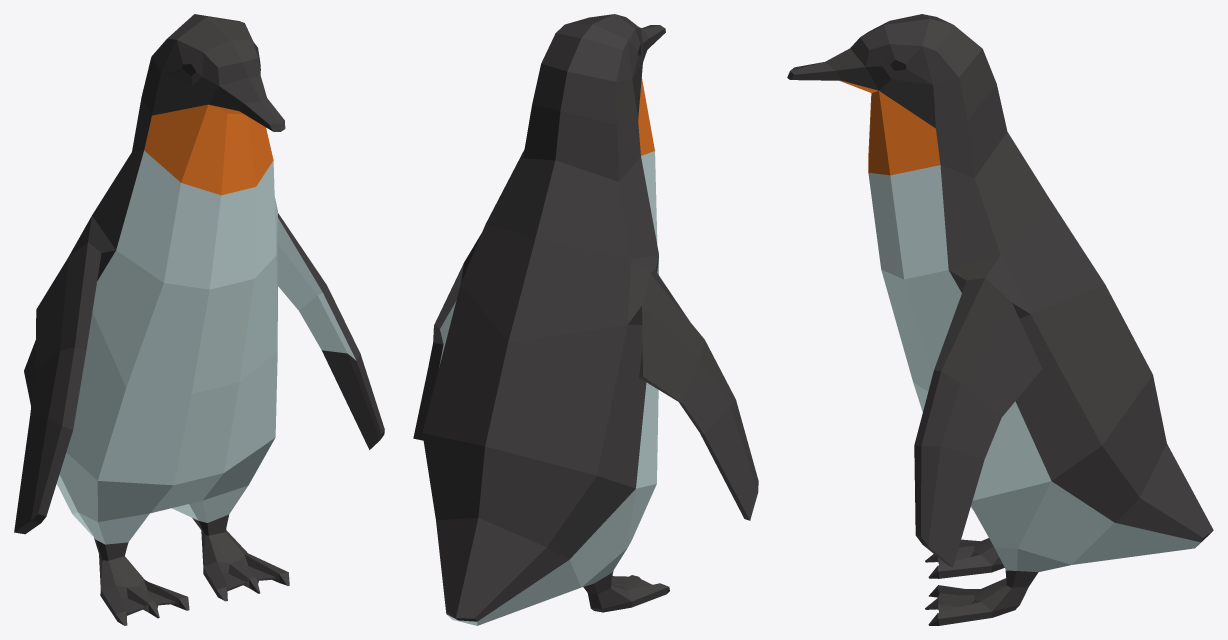
File: penguin.glb
3 views of the same model, side by side, from view 1: azimuth 30°, elevation 25°; view 2: azimuth 150°, elevation 25°; view 3: azimuth 270°, elevation 25° (orthographic). The views are drawn at different scales.
Visible parts, largest first — view 1: penguin; view 2: penguin; view 3: penguin.
Boxes of the visible parts, box(x1,y1,x2,y2) form: penguin: box(14, 14, 384, 625); penguin: box(413, 14, 758, 625); penguin: box(787, 14, 1213, 625).
Size of the model in its own units: 0.695 by 1.08 by 0.7358.
1 material, 1 textured.
